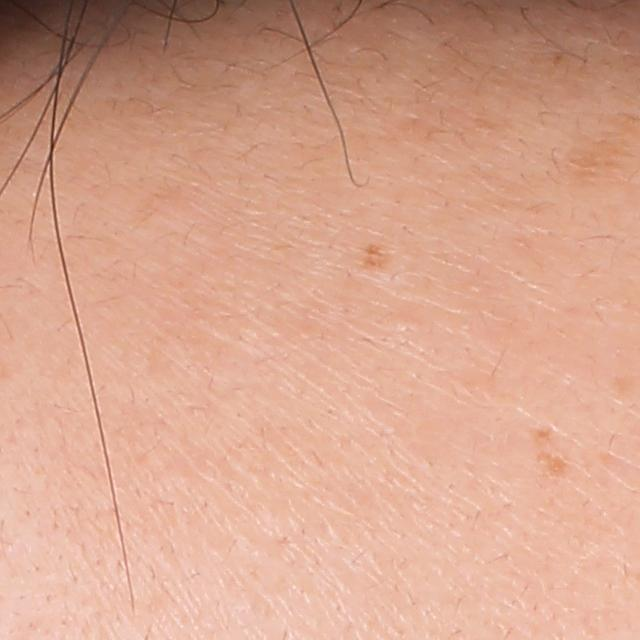melasma: (533, 423, 570, 486)
